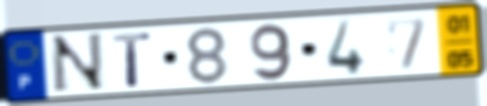4: (323, 16, 370, 77)
7: (385, 16, 428, 71)
8: (182, 25, 231, 87)
9: (247, 21, 294, 82)
N: (48, 30, 110, 96)
T: (110, 31, 155, 89)
